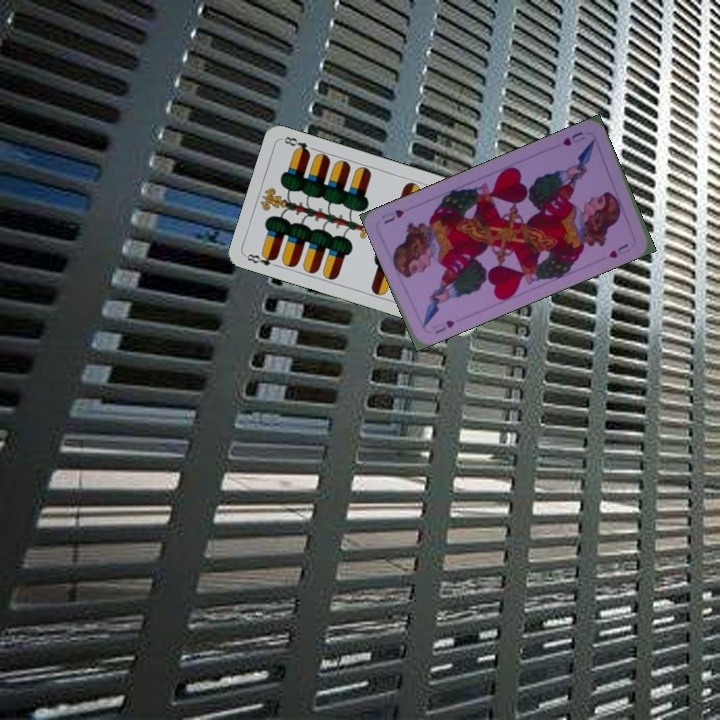E8: (242, 249, 280, 269)
HU: (559, 127, 587, 149), (429, 316, 457, 337)
